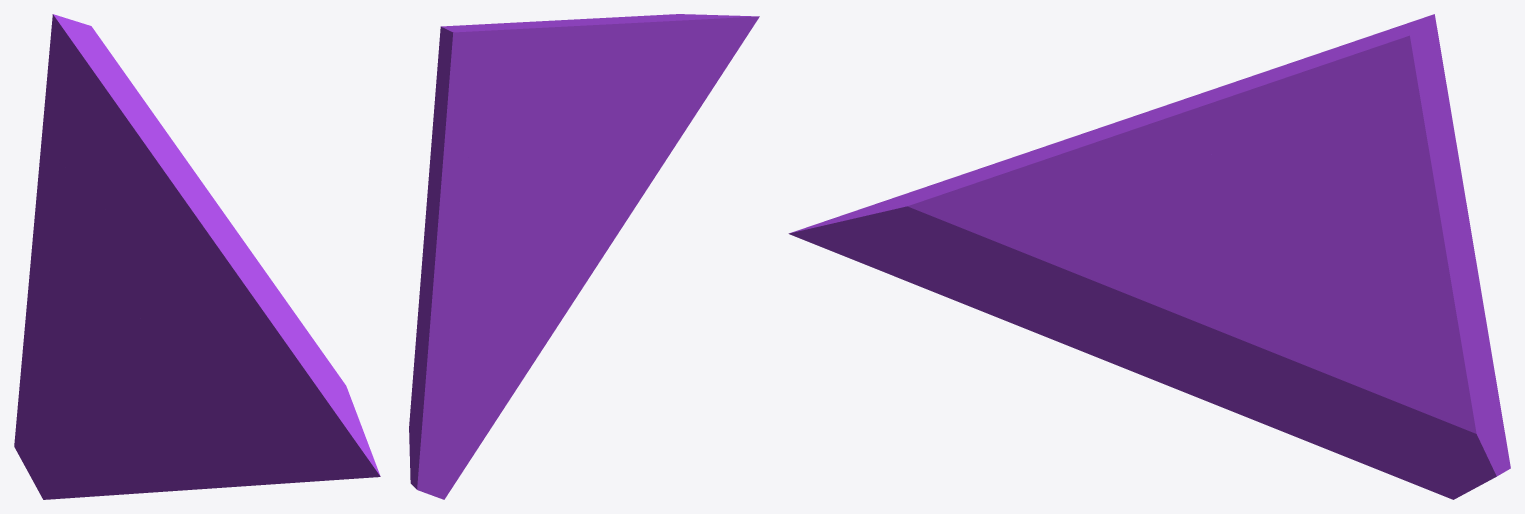
File: Window_18_2_chunks.fbx
3 renders of one model, left to right at view 1: azimuth 30°, elevation 25°; view 2: azimuth 150°, elevation 25°; view 3: azimuth 270°, elevation 25°, orthographic. The views are drawn at different scales.
Parts seen in each view (by area): view 1: Window_18_2_0, Window_18_2_1, Window_18_2_2, Window_18_2_3; view 2: Window_18_2_0, Window_18_2_1, Window_18_2_2, Window_18_2_3; view 3: Window_18_2_0, Window_18_2_2, Window_18_2_1, Window_18_2_3.
Part boxes in pixels (left/top/right/bottom): Window_18_2_0: left=139, top=177, right=380, bottom=489; Window_18_2_1: left=14, top=269, right=189, bottom=499; Window_18_2_2: left=41, top=14, right=201, bottom=254; Window_18_2_3: left=30, top=142, right=148, bottom=333; Window_18_2_0: left=534, top=14, right=759, bottom=289; Window_18_2_1: left=409, top=214, right=580, bottom=499; Window_18_2_2: left=421, top=21, right=561, bottom=273; Window_18_2_3: left=425, top=127, right=542, bottom=301; Window_18_2_0: left=788, top=92, right=1264, bottom=384; Window_18_2_2: left=1191, top=14, right=1457, bottom=279; Window_18_2_1: left=1165, top=274, right=1510, bottom=499; Window_18_2_3: left=1457, top=149, right=1479, bottom=281.
Bounding box in the file's own units: 27.2 × 492 × 664.
